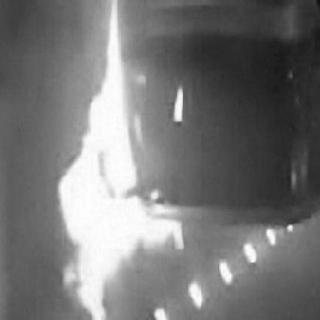other: (284, 223, 296, 239)
